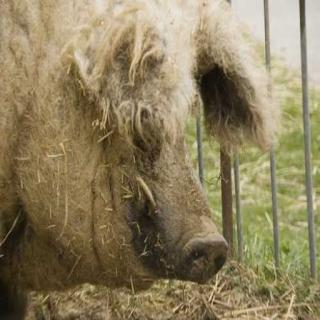Pig: (17, 0, 260, 318)
